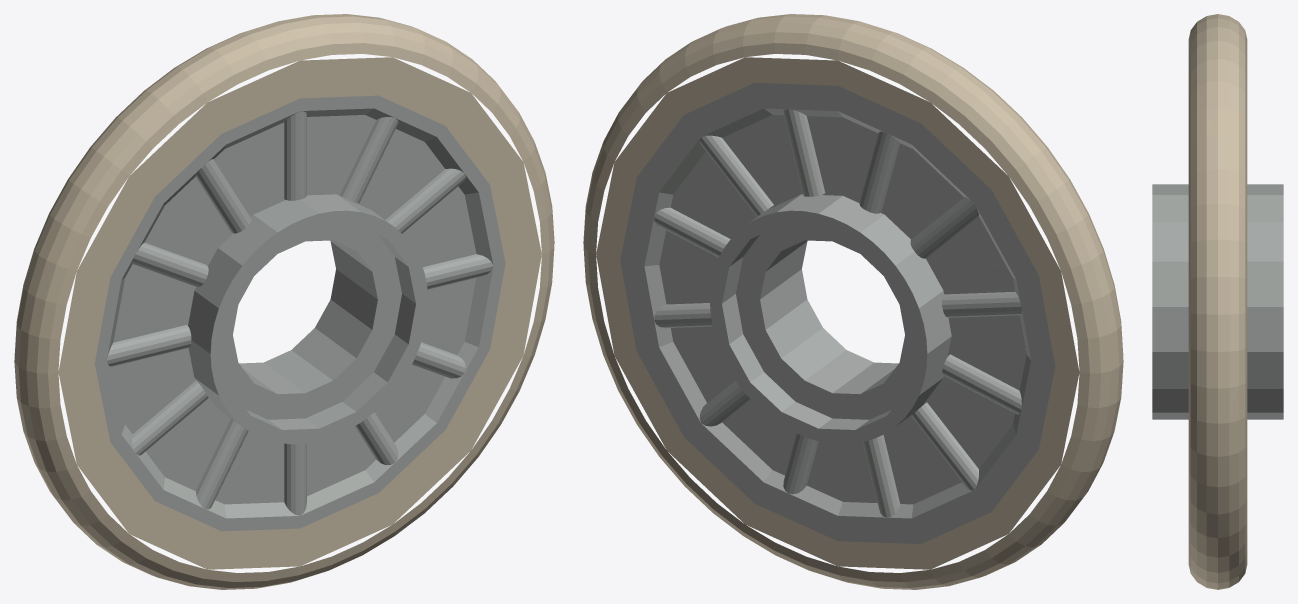
The picture shows the model from 3 angles, left to right: view 1: azimuth 30°, elevation 25°; view 2: azimuth 150°, elevation 25°; view 3: azimuth 270°, elevation 25°; orthographic projection. The views are drawn at different scales.
Parts seen in each view (by area): view 1: world; view 2: world; view 3: world.
Part boxes in pixels (x1,y1,x2,y2): world: (14, 14, 554, 589); world: (583, 14, 1123, 589); world: (1152, 14, 1283, 589).
Bounding box in the file's own units: 0.0176 × 0.0176 × 0.004.
